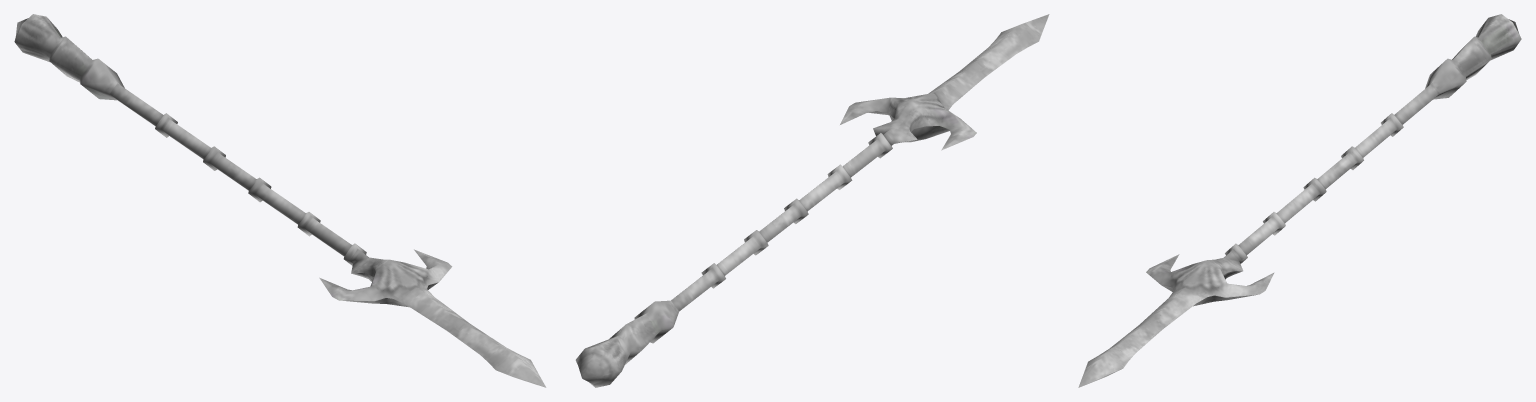
Rendered from rider-weapon-slice-ironweapons.glb.
3 views of the same model, side by side, from view 1: azimuth 30°, elevation 25°; view 2: azimuth 150°, elevation 25°; view 3: azimuth 330°, elevation 25° (orthographic). The views are drawn at different scales.
Bounding box in the file's own units: 0.3621 × 0.1424 × 2.61.
Materials: 1 (1 with a texture image).
